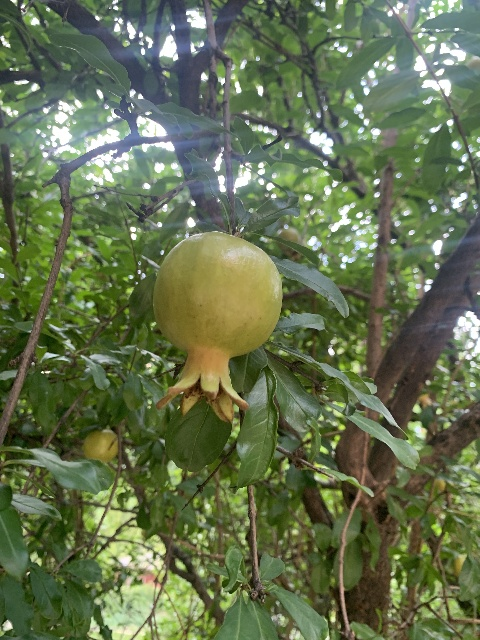mid-growth: (151, 231, 283, 423), (83, 428, 118, 462), (277, 227, 301, 261)
